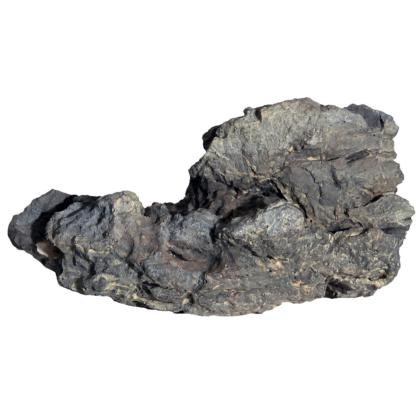Igneous_Basalt: (0, 88, 414, 331)
